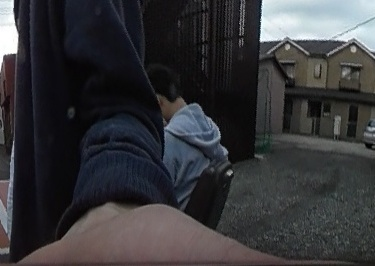person: (160, 63, 237, 192)
